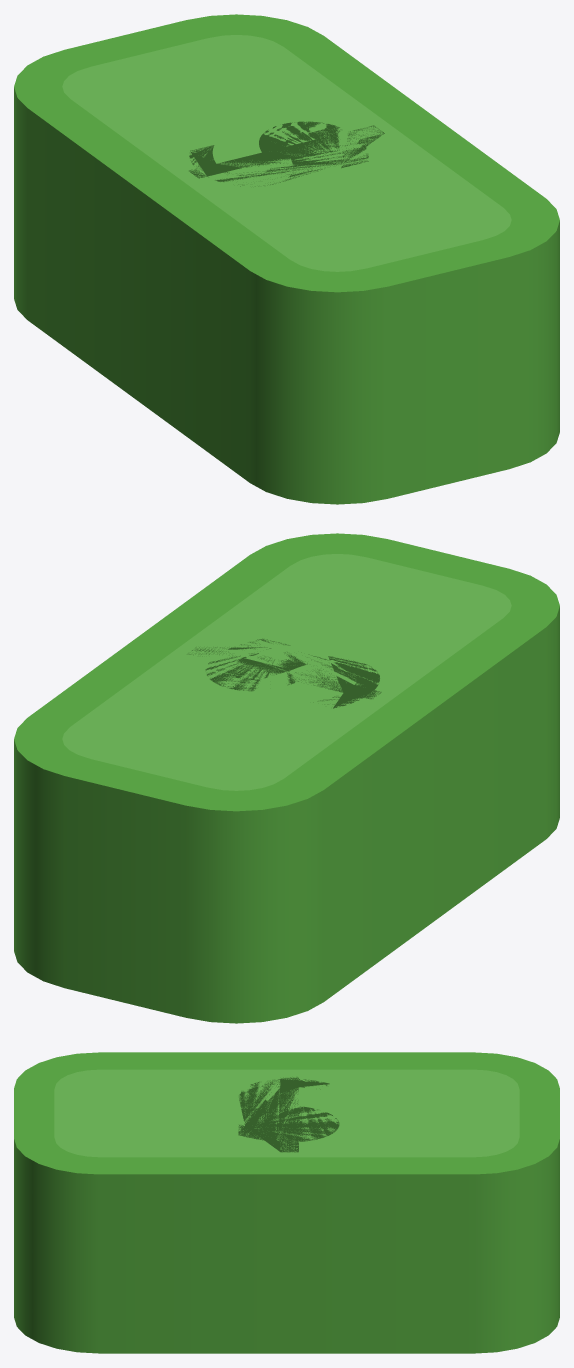
Rendered from Cash Stack.fbx.
3 views of the same model, one above another, from view 1: azimuth 30°, elevation 25°; view 2: azimuth 150°, elevation 25°; view 3: azimuth 270°, elevation 25° (orthographic). The views are drawn at different scales.
Parts seen in each view (by area): view 1: Cash.001; view 2: Cash.001; view 3: Cash.001.
Boxes of the visible parts, x1,y1,x2,y2 form: Cash.001: [14, 14, 559, 504]; Cash.001: [14, 533, 559, 1023]; Cash.001: [14, 1052, 559, 1353].
Bounding box in the file's own units: 0.2658 × 0.1819 × 0.5028.
